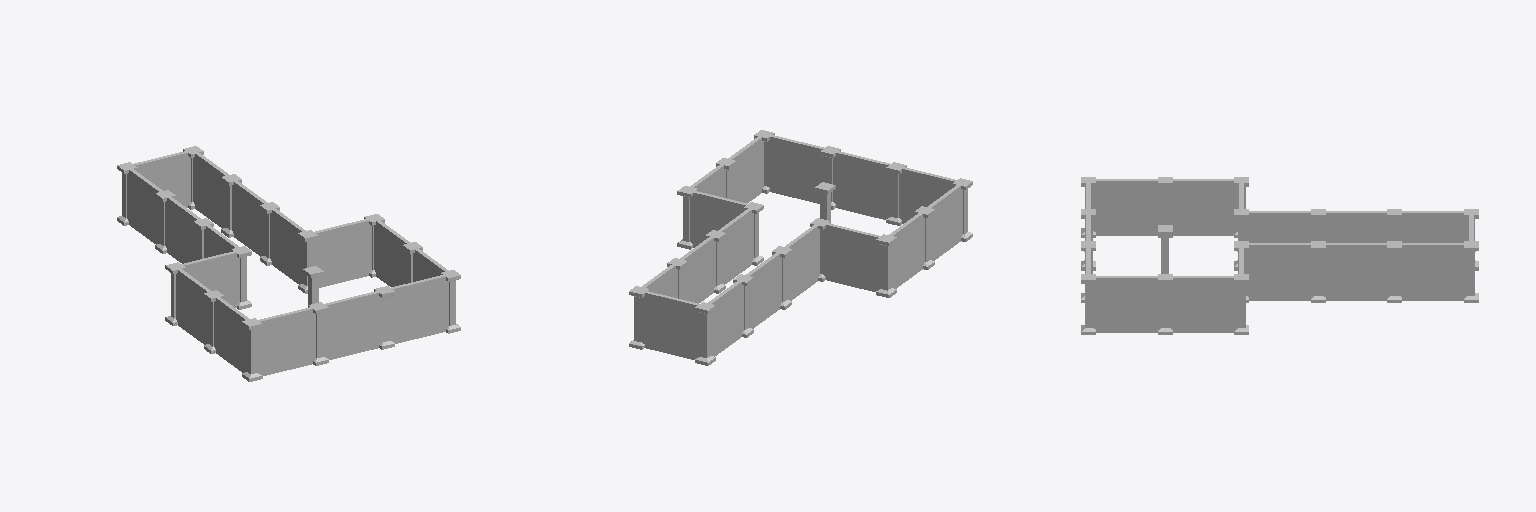
File: Salle3.obj
3 views of the same model, side by side, from view 1: azimuth 30°, elevation 25°; view 2: azimuth 150°, elevation 25°; view 3: azimuth 270°, elevation 25° (orthographic).
Visible parts, largest first — view 1: Wall.009_Cube.020, Wall.002_Cube.006, Wall.001_Cube.005, Wall.010_Cube.021, Wall.008_Cube.019, Wall.015_Cube.033, Wall.005_Cube.012, Wall.013_Cube.027, Wall_Cube.003, Wall.006_Cube.013, Wall.003_Cube.008, Wall.011_Cube.022 (+10 smaller); view 2: Wall.002_Cube.006, Wall.003_Cube.008, Wall.007_Cube.018, Wall.009_Cube.020, Wall.004_Cube.010, Wall.006_Cube.013, Wall.014_Cube.032, Wall.005_Cube.012, Wall_Cube.003, Wall.013_Cube.027, Wall.010_Cube.021, Wall.001_Cube.005 (+9 smaller); view 3: Wall.015_Cube.033, Wall.008_Cube.019, Wall.011_Cube.022, Wall.005_Cube.012, Wall.012_Cube.026, Wall_Cube.003, Wall.013_Cube.027, Wall.014_Cube.032, Wall.006_Cube.013, Wall.004_Cube.010, Pillar.008_Cube.017, Pillar.010_Cube.024 (+4 smaller).
Boxes of the visible parts, box(x1,y1,x2,y2) form: Wall.009_Cube.020: box(384, 273, 450, 343); Wall.002_Cube.006: box(324, 289, 384, 359); Wall.001_Cube.005: box(255, 307, 315, 375); Wall.010_Cube.021: box(313, 217, 374, 287); Wall.008_Cube.019: box(192, 150, 232, 228); Wall.015_Cube.033: box(230, 178, 270, 256); Wall.005_Cube.012: box(269, 206, 308, 284); Wall.013_Cube.027: box(213, 294, 248, 372); Wall_Cube.003: box(176, 269, 214, 344); Wall.006_Cube.013: box(126, 166, 165, 244); Wall.003_Cube.008: box(182, 251, 239, 307); Wall.011_Cube.022: box(373, 218, 413, 286); Wall.002_Cube.006: box(831, 150, 897, 219); Wall.003_Cube.008: box(820, 223, 880, 291); Wall.007_Cube.018: box(640, 289, 699, 359); Wall.009_Cube.020: box(764, 133, 830, 203); Wall.004_Cube.010: box(781, 222, 820, 300); Wall.006_Cube.013: box(704, 278, 744, 356); Wall.014_Cube.032: box(745, 250, 782, 328); Wall.005_Cube.012: box(714, 207, 754, 284); Wall_Cube.003: box(889, 210, 924, 288); Wall.013_Cube.027: box(923, 185, 962, 260); Wall.010_Cube.021: box(687, 189, 752, 247); Wall.001_Cube.005: box(897, 166, 956, 223); Wall.015_Cube.033: box(1322, 243, 1392, 300); Wall.008_Cube.019: box(1395, 243, 1466, 300); Wall.011_Cube.022: box(1165, 276, 1241, 332); Wall.005_Cube.012: box(1244, 243, 1317, 300); Wall.012_Cube.026: box(1089, 276, 1164, 332); Wall_Cube.003: box(1165, 179, 1241, 235); Wall.013_Cube.027: box(1089, 179, 1164, 235); Wall.014_Cube.032: box(1318, 211, 1394, 242); Wall.006_Cube.013: box(1395, 211, 1470, 242); Wall.004_Cube.010: box(1242, 211, 1317, 242); Pillar.008_Cube.017: box(1464, 241, 1478, 302); Pillar.010_Cube.024: box(1081, 274, 1095, 334).
Bounding box in the file's own units: 32 × 8 × 52.